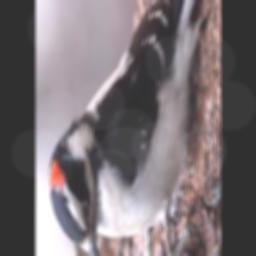Woodpecker: (45, 0, 211, 256)
